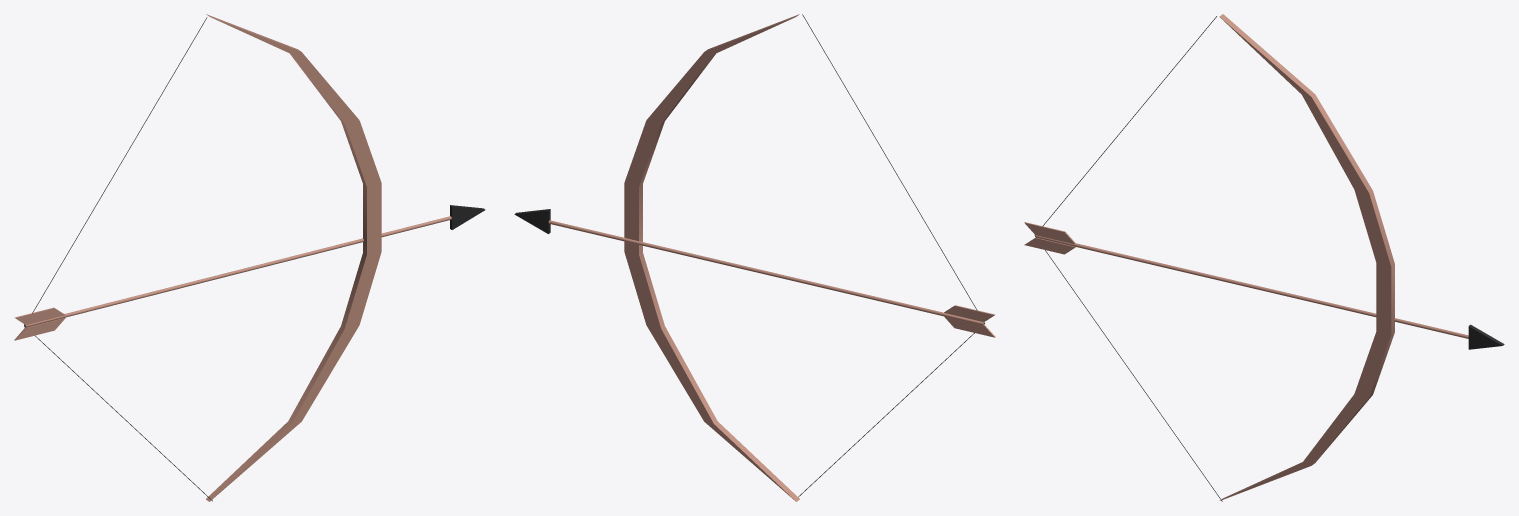
The model's file is dhanush Bow and arrow.fbx.
The picture shows the model from 3 angles, left to right: view 1: azimuth 30°, elevation 25°; view 2: azimuth 150°, elevation 25°; view 3: azimuth 330°, elevation 25°; orthographic projection.
Parts seen in each view (by area): view 1: imagetostl_mesh0, imagetostl_mesh2, imagetostl_mesh1; view 2: imagetostl_mesh0, imagetostl_mesh2, imagetostl_mesh1, imagetostl_mesh3; view 3: imagetostl_mesh0, imagetostl_mesh2, imagetostl_mesh1, imagetostl_mesh3.
Part boxes in pixels (x1,y1,x2,y2): imagetostl_mesh0: [206, 14, 381, 501]; imagetostl_mesh2: [24, 216, 451, 327]; imagetostl_mesh1: [24, 17, 212, 501]; imagetostl_mesh0: [624, 14, 799, 501]; imagetostl_mesh2: [548, 220, 984, 325]; imagetostl_mesh1: [798, 14, 984, 497]; imagetostl_mesh3: [514, 209, 550, 233]; imagetostl_mesh0: [1219, 14, 1394, 500]; imagetostl_mesh2: [1035, 235, 1468, 338]; imagetostl_mesh1: [1034, 16, 1222, 501]; imagetostl_mesh3: [1468, 324, 1504, 349].
Bounding box in the file's own units: 2.36e+08 × 2.3e+08 × 5635976.
